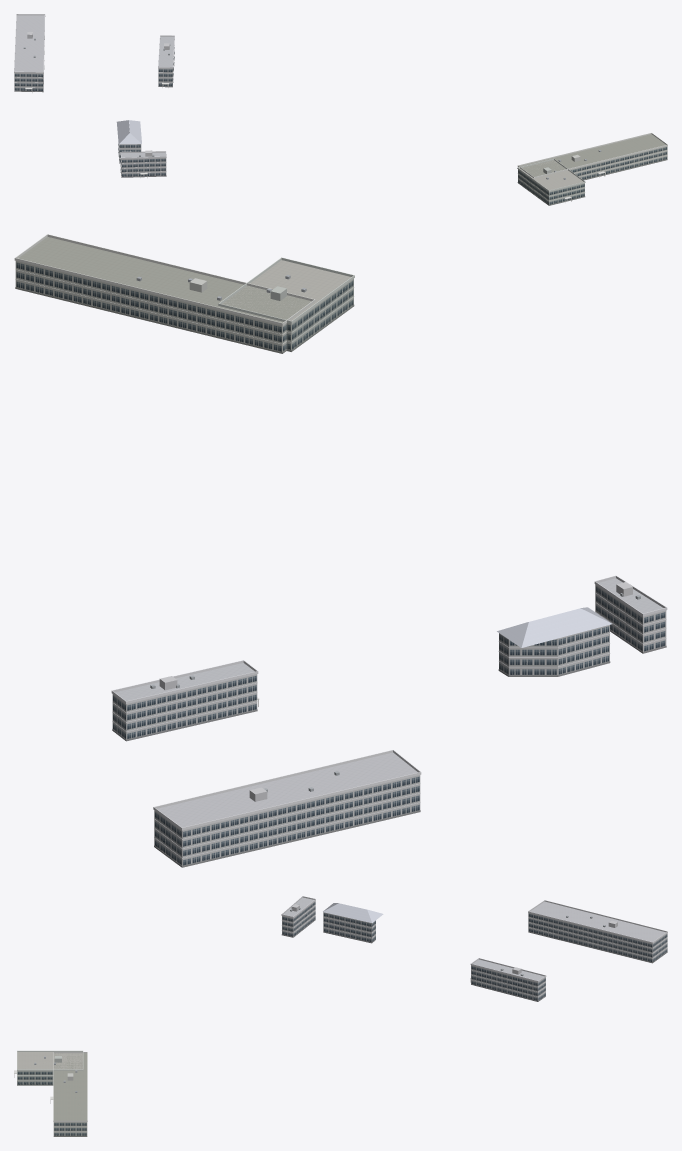
3 renders of one model, top to bottom at view 1: azimuth 30°, elevation 25°; view 2: azimuth 150°, elevation 25°; view 3: azimuth 270°, elevation 25°, orthographic. The views are drawn at different scales.
Visible parts, largest first — view 1: manual-25, 1425270045, manual-26, 1425270042, 1425270044, 1425270043; view 2: 1425270045, manual-25, 1425270044, 1425270043, manual-26, 1425270042; view 3: 1425270045, manual-25, 1425270044, manual-26, 1425270043, 1425270042.
Part boxes in pixels (x1,y1,x2,y2): manual-25: (517,133,667,180); 1425270045: (14,14,45,92); manual-26: (517,158,585,205); 1425270042: (120,150,166,177); 1425270044: (158,35,174,87); 1425270043: (116,120,141,163); 1425270045: (153,750,421,867); manual-25: (14,234,315,353); 1425270044: (111,660,259,741); 1425270043: (497,607,611,676); manual-26: (218,257,354,351); 1425270042: (594,575,667,653); 1425270045: (528,900,667,963); manual-25: (50,1052,87,1136); 1425270044: (470,958,546,1001); manual-26: (14,1050,83,1085); 1425270043: (323,903,383,943); 1425270042: (281,896,315,937).
Size of the model in its own units: 356 by 20.63 by 448.
Materials: 4 (3 with a texture image).
